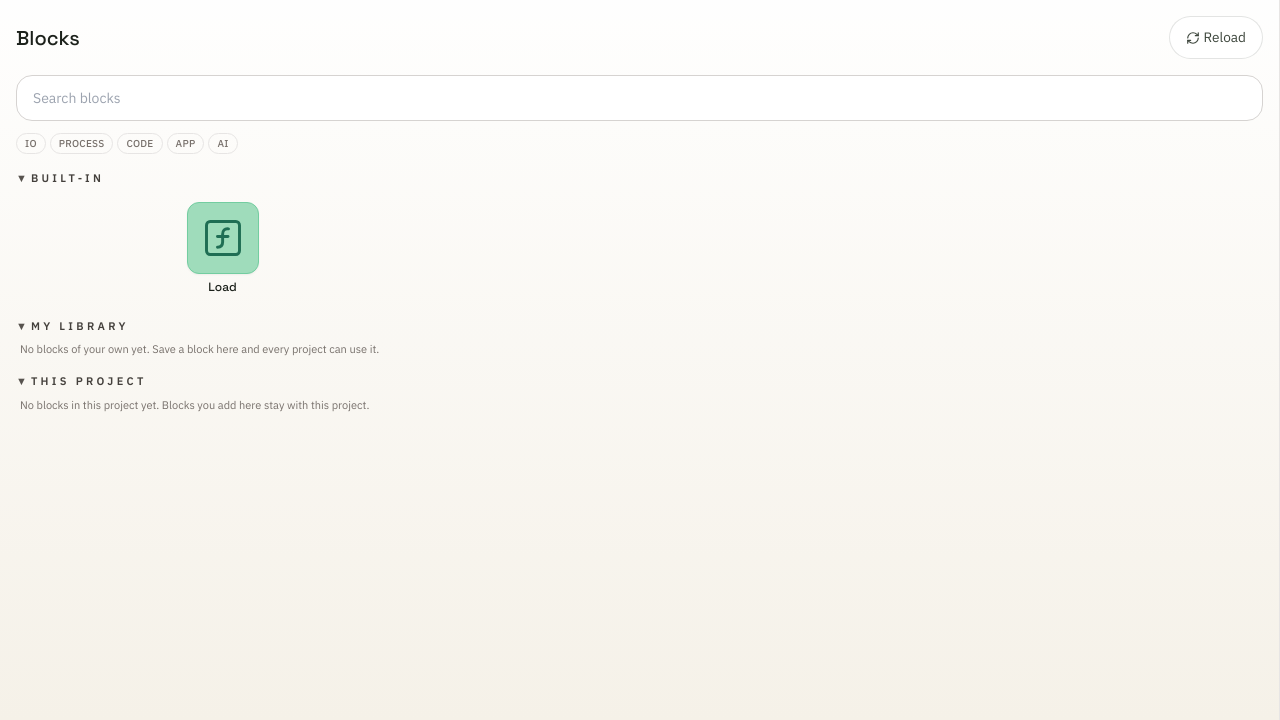
Test: E5 — palette hover popovers › hides the block action row entirely for a built-in block (FR-019)
Hover over the element with test id "palette-block-tile" at x=222, y=248, box x1=16 y1=195 x2=429 y2=302
Wait 151 ms
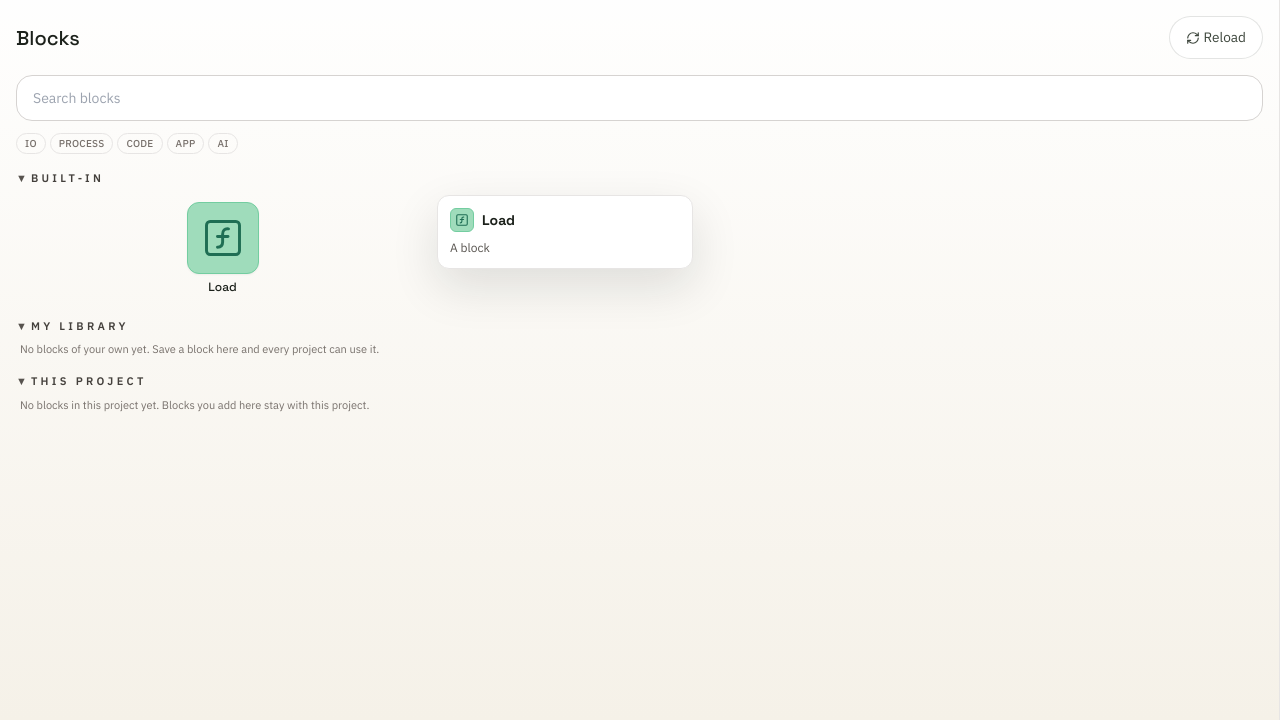
Expected: the element with test id "block-detail-popover" is shown, x1=437 y1=195 x2=693 y2=269
